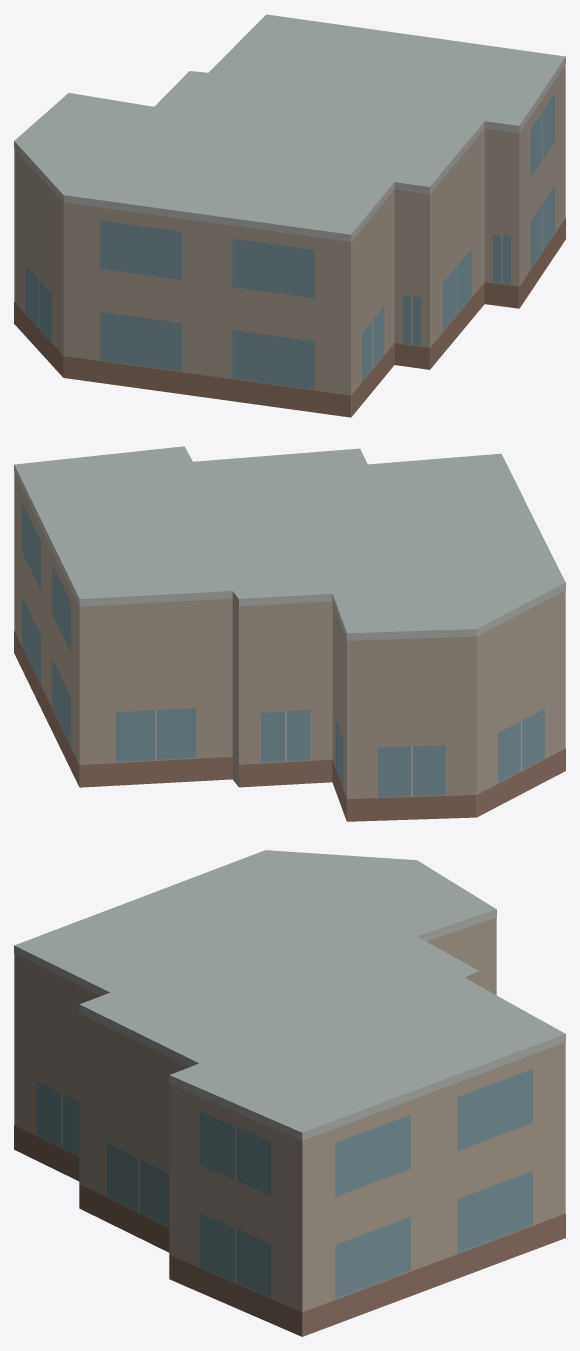
Rendered from survey-upis-32923380.glb.
The picture shows the model from 3 angles, top to bottom: view 1: azimuth 30°, elevation 25°; view 2: azimuth 150°, elevation 25°; view 3: azimuth 270°, elevation 25°; orthographic projection. The views are drawn at different scales.
Visible parts, largest first — view 1: survey-upis-32923380.tmp; view 2: survey-upis-32923380.tmp; view 3: survey-upis-32923380.tmp.
Part boxes in pixels (<box>): survey-upis-32923380.tmp: <box>14,14,565,417</box>; survey-upis-32923380.tmp: <box>14,446,565,821</box>; survey-upis-32923380.tmp: <box>14,850,565,1336</box>.
Bounding box in the file's own units: 18.13 × 6.1 × 14.95.
